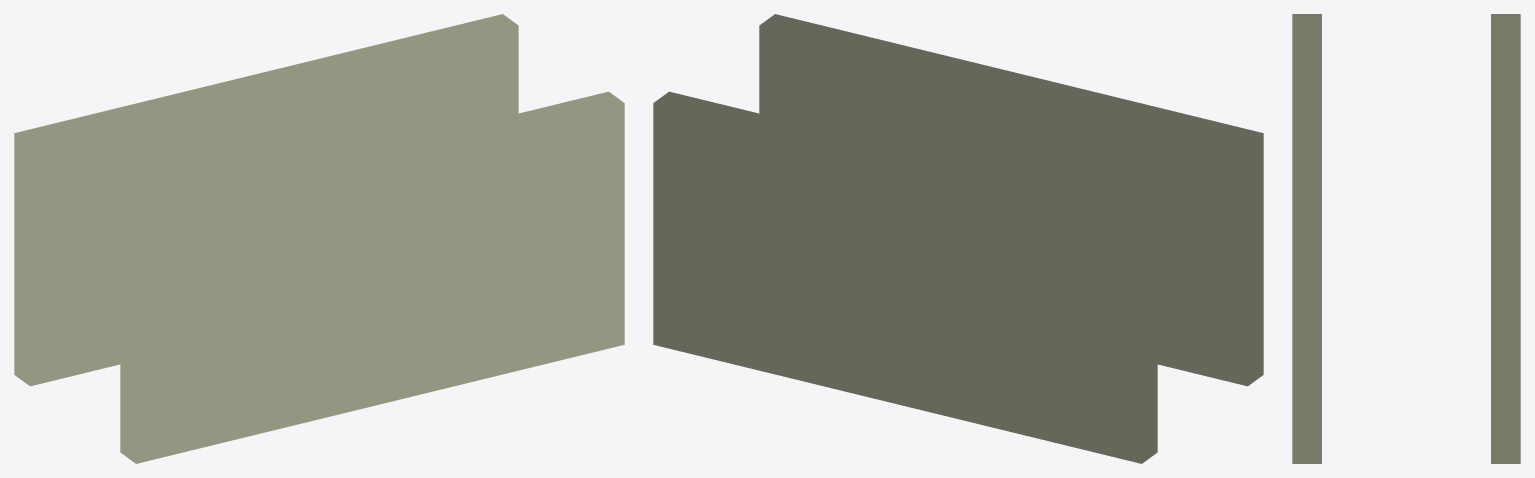
File: horzontal_hall.dae
3 views of the same model, side by side, from view 1: azimuth 30°, elevation 25°; view 2: azimuth 150°, elevation 25°; view 3: azimuth 270°, elevation 25° (orthographic). The views are drawn at different scales.
Visible parts, largest first — view 1: Cube41_sep71-0; view 2: Cube41_sep71-0; view 3: Cube41_sep71-0.
Boxes of the visible parts, left/top/right/bottom form: Cube41_sep71-0: left=14, top=14, right=624, bottom=463; Cube41_sep71-0: left=653, top=14, right=1263, bottom=463; Cube41_sep71-0: left=1292, top=14, right=1520, bottom=463.
Bounding box in the file's own units: 174 × 82.16 × 74.93.
